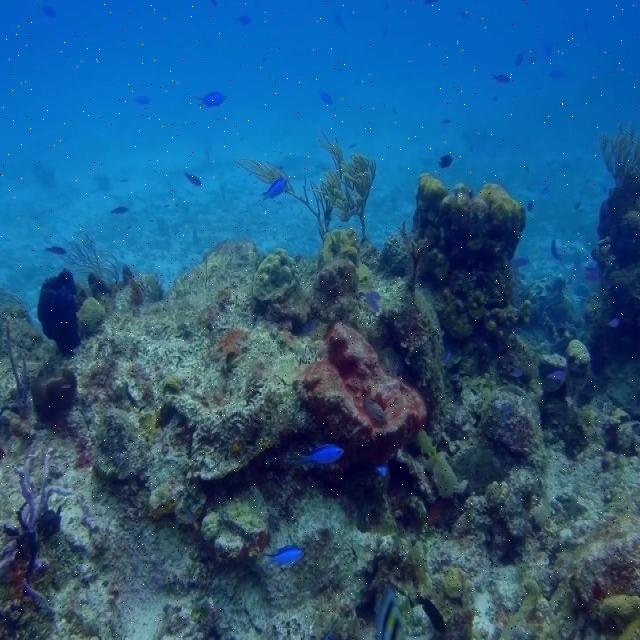aquatic plants: (241, 128, 380, 241), (65, 223, 121, 287), (599, 122, 639, 185)
fish: (34, 269, 82, 356), (296, 439, 349, 466), (264, 544, 305, 568), (264, 178, 285, 204), (189, 91, 225, 105)
reefs: (294, 317, 430, 450), (0, 446, 75, 614), (413, 169, 530, 269), (252, 232, 357, 323)
